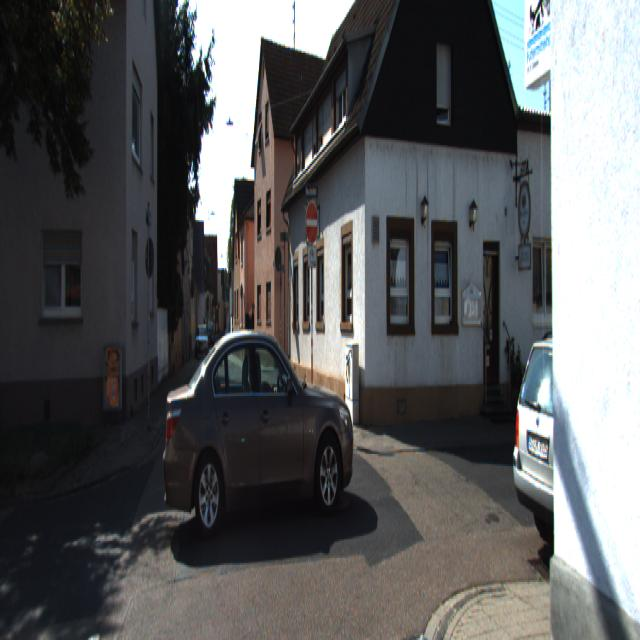Car: (163, 324, 357, 548), (510, 323, 639, 560)
